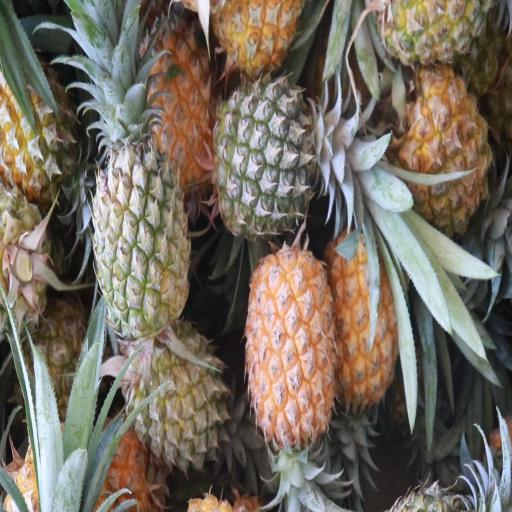------------------------------: (90, 124, 188, 324), (132, 327, 226, 470)
Pineapple - v8 v1: (245, 247, 336, 440), (397, 66, 486, 226), (134, 14, 216, 180), (330, 231, 404, 399)
